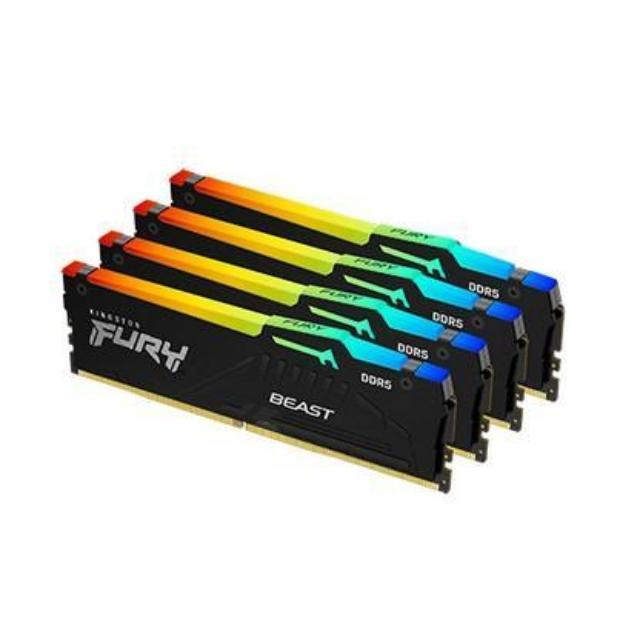RAM: (56, 154, 573, 506)
